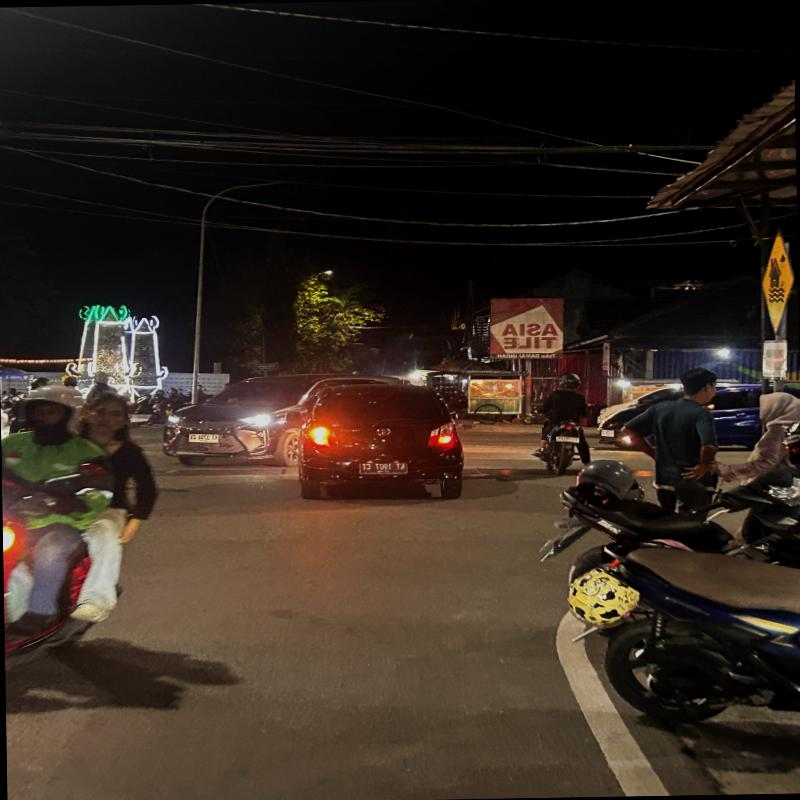license plate on a car: (358, 461, 406, 476), (184, 434, 219, 442)
